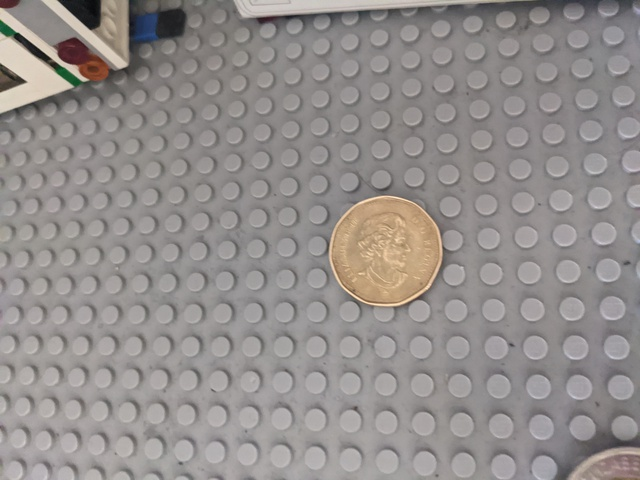loonie: (322, 186, 449, 312)
